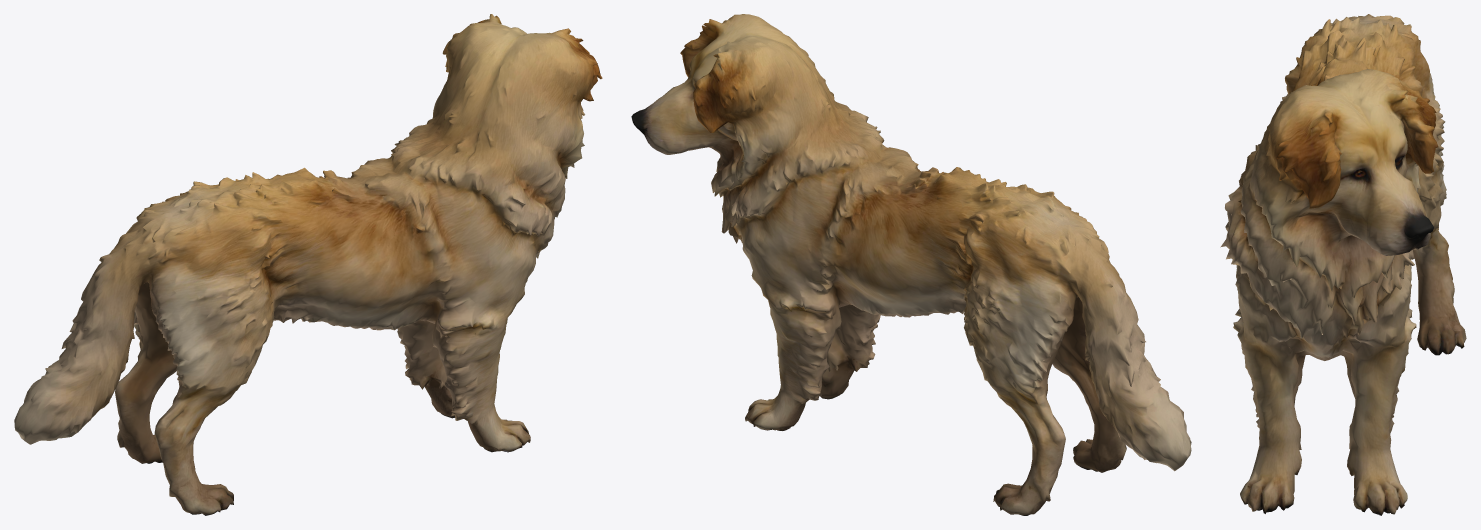
Rendered from dog-fluffy-standing.glb.
3 renders of one model, left to right at view 1: azimuth 30°, elevation 25°; view 2: azimuth 150°, elevation 25°; view 3: azimuth 270°, elevation 25°, orthographic. The views are drawn at different scales.
Parts seen in each view (by area): view 1: tripo_node_e886ff1a-db0d-428b-8625-1e36cf9c634e; view 2: tripo_node_e886ff1a-db0d-428b-8625-1e36cf9c634e; view 3: tripo_node_e886ff1a-db0d-428b-8625-1e36cf9c634e.
Boxes of the visible parts, x1,y1,x2,y2 form: tripo_node_e886ff1a-db0d-428b-8625-1e36cf9c634e: (14,14,602,515); tripo_node_e886ff1a-db0d-428b-8625-1e36cf9c634e: (631,14,1191,515); tripo_node_e886ff1a-db0d-428b-8625-1e36cf9c634e: (1220,14,1466,515).
Size of the model in its own units: 1.16 by 0.75 by 0.3759.
Materials: 1 (1 with a texture image).
